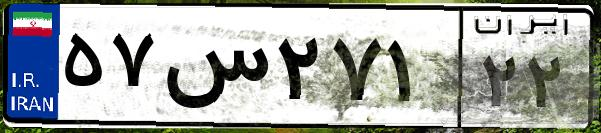1: (385, 28, 445, 110)
2: (270, 28, 330, 110), (475, 38, 525, 113), (525, 38, 570, 115)
5: (57, 26, 110, 100)
7: (330, 28, 385, 110), (110, 28, 158, 98)
س: (158, 20, 270, 120)
